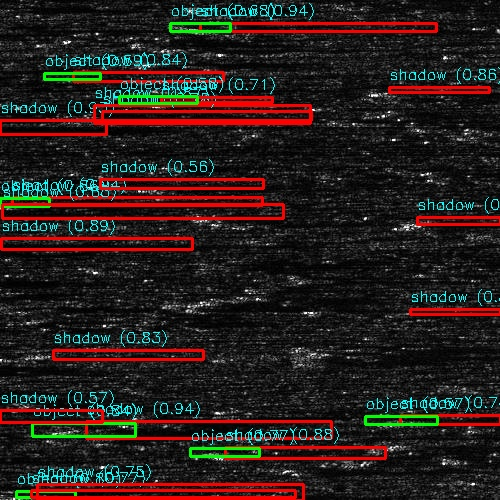rock: (12, 421, 127, 440), (147, 23, 262, 32), (12, 110, 95, 119), (212, 449, 285, 458), (1, 493, 84, 500), (190, 293, 231, 302), (0, 198, 47, 205), (135, 98, 188, 103), (54, 75, 95, 80), (390, 310, 431, 315), (405, 216, 416, 223)
shadow: (70, 421, 275, 440), (54, 110, 321, 119), (0, 240, 225, 249), (43, 493, 323, 500), (205, 23, 416, 32), (21, 198, 288, 205), (249, 449, 396, 458), (0, 122, 101, 135), (211, 293, 350, 302), (75, 75, 213, 80), (162, 98, 300, 103), (0, 450, 51, 463), (411, 216, 500, 223), (0, 393, 64, 402), (411, 310, 500, 315), (0, 277, 42, 284), (16, 353, 82, 354)
